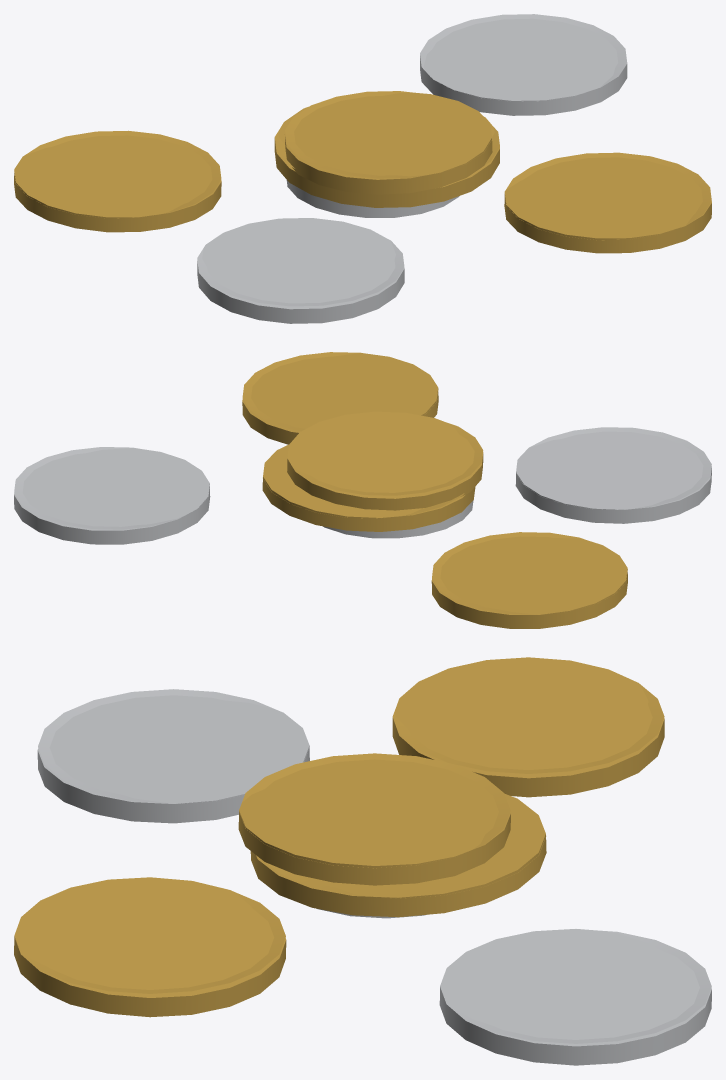
The model's file is coins.glb.
3 renders of one model, top to bottom at view 1: azimuth 30°, elevation 25°; view 2: azimuth 150°, elevation 25°; view 3: azimuth 270°, elevation 25°, orthographic. The views are drawn at different scales.
Parts seen in each view (by area): view 1: coins; view 2: coins; view 3: coins.
Part boxes in pixels (left/top/right/bottom): coins: left=14, top=14, right=711, bottom=323; coins: left=14, top=352, right=711, bottom=628; coins: left=14, top=657, right=711, bottom=1065.
Size of the model in its own units: 0.08 by 0.0065 by 0.0613.
